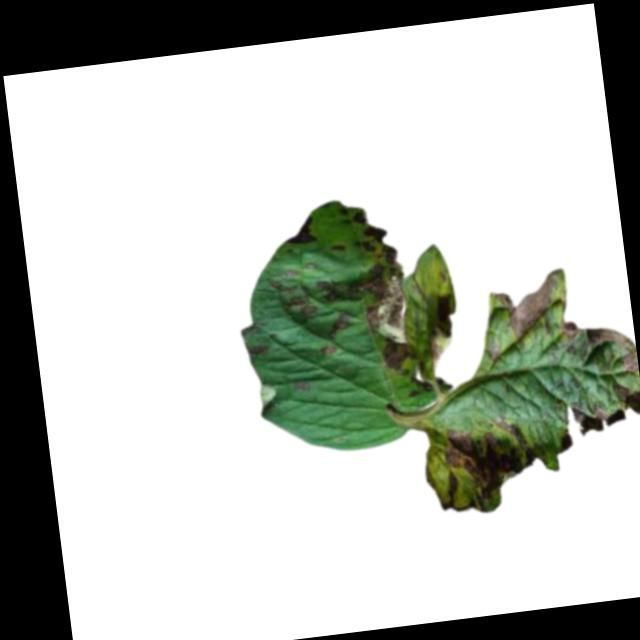Early_blight: (418, 411, 543, 519), (361, 258, 419, 374), (561, 310, 638, 381), (495, 273, 560, 347), (357, 206, 402, 264), (569, 397, 612, 436), (432, 288, 459, 340), (282, 216, 316, 245), (291, 290, 317, 319), (331, 311, 353, 331)
